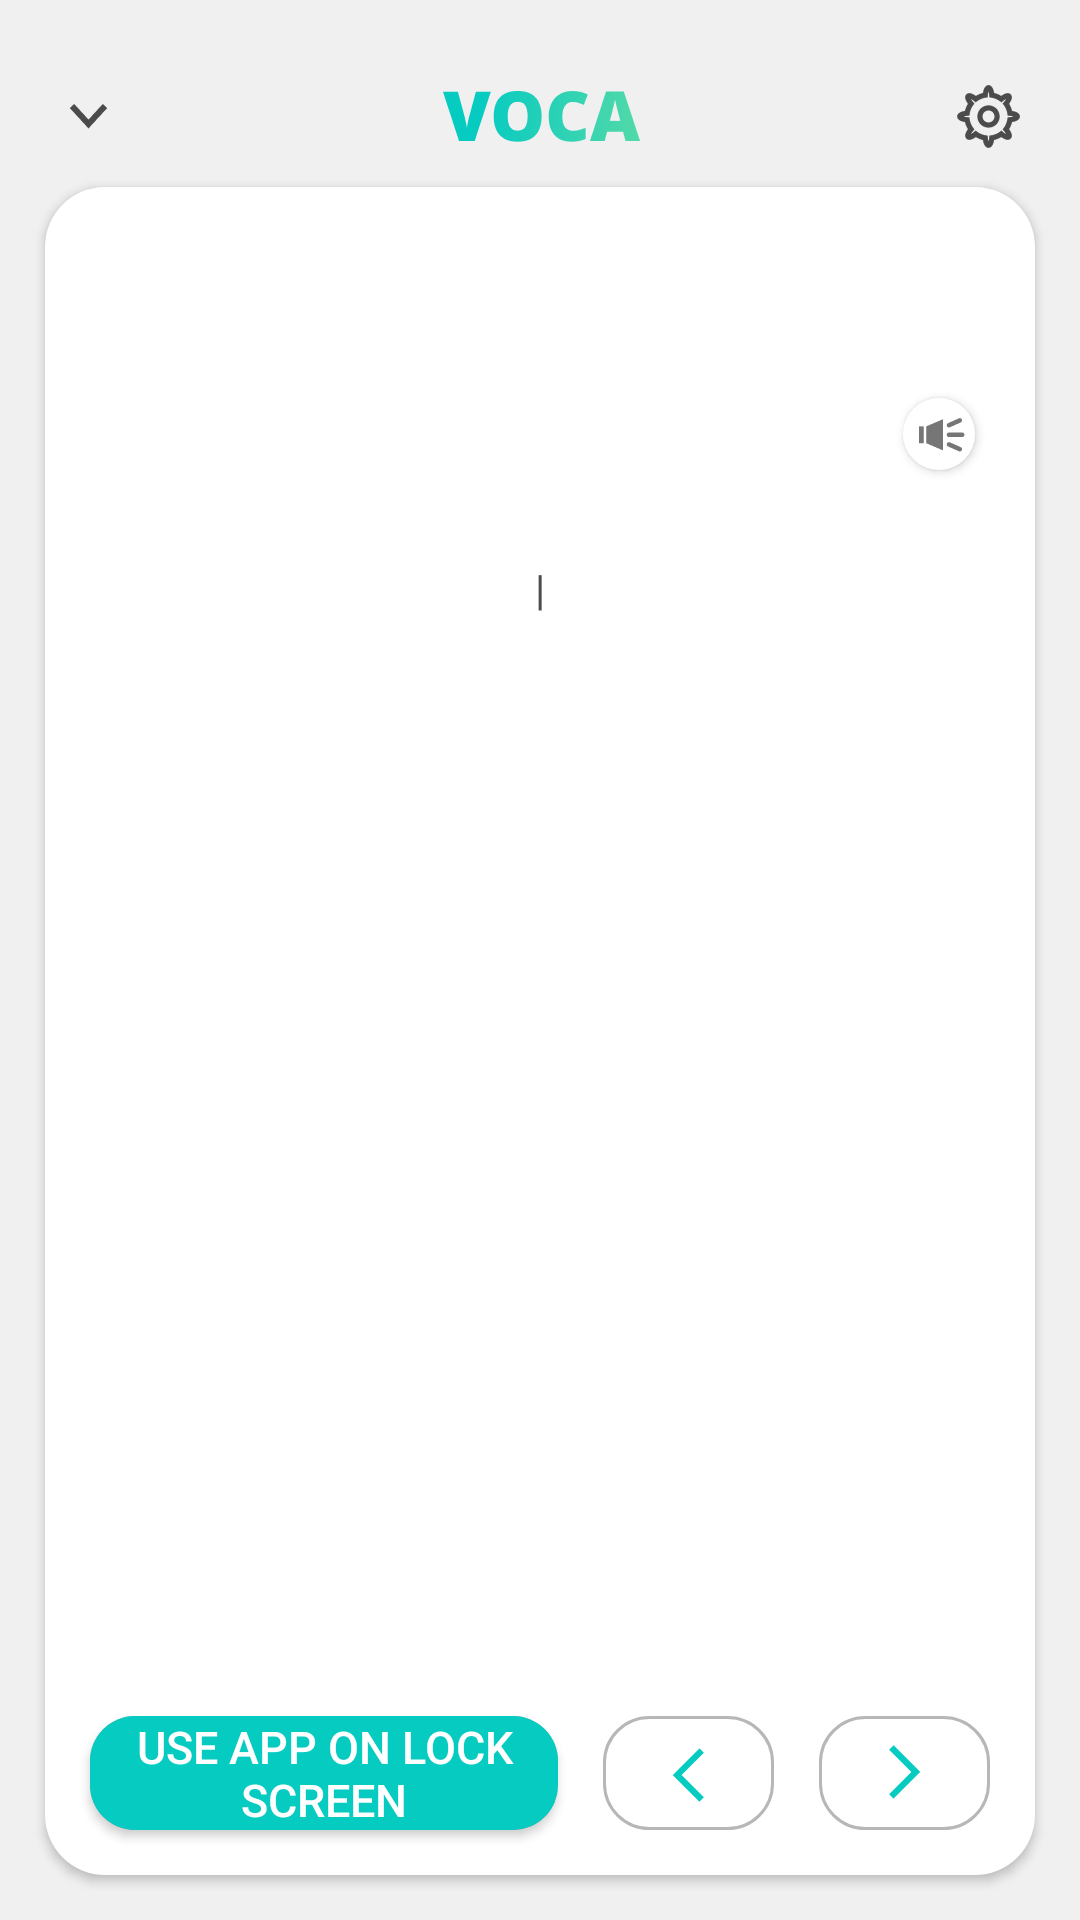

Icons on this 1080 × 1920 Android screen, each with the point to tap as (x=x, y=y):
left arrow: (x=688, y=1773)
right arrow: (x=904, y=1773)
setting: (x=988, y=116)
sound: (x=947, y=443)
